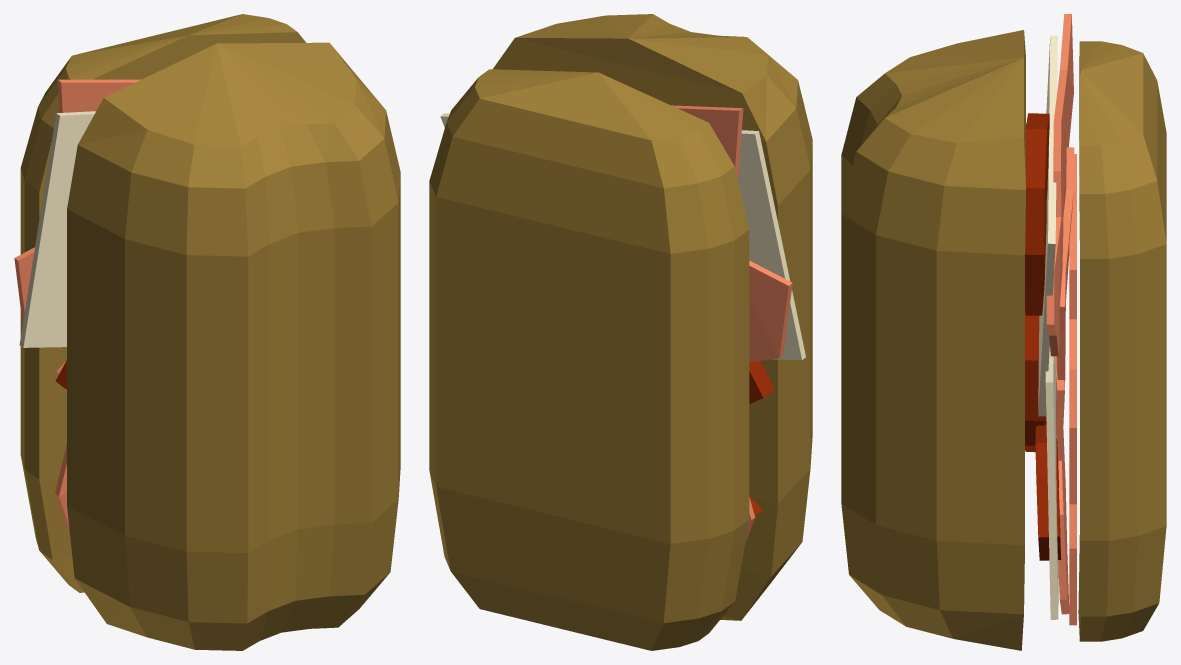
3 renders of one model, left to right at view 1: azimuth 30°, elevation 25°; view 2: azimuth 150°, elevation 25°; view 3: azimuth 270°, elevation 25°, orthographic. The views are drawn at different scales.
Visible parts, largest first — view 1: d food; view 2: d food; view 3: d food.
Boxes of the visible parts, x1,y1,x2,y2 form: d food: (14,14,400,650); d food: (429,14,812,650); d food: (841,14,1166,650).
Size of the model in its own units: 7.42 by 11.46 by 6.01.
